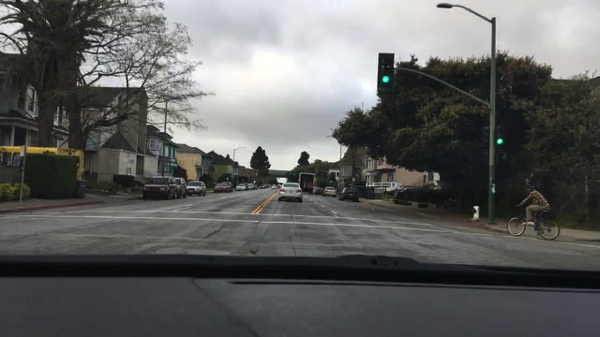bike: (506, 204, 560, 241)
bus: (1, 145, 83, 193)
car: (142, 176, 178, 200), (393, 187, 435, 203), (277, 183, 304, 202), (367, 181, 396, 194), (185, 180, 207, 197), (174, 178, 189, 199), (338, 187, 359, 201), (213, 182, 229, 193), (322, 187, 337, 198), (222, 181, 233, 192), (236, 183, 246, 192), (316, 187, 323, 195), (247, 184, 253, 190), (271, 184, 277, 190), (241, 183, 248, 188), (260, 184, 266, 189), (253, 185, 258, 190), (314, 187, 317, 193), (277, 184, 281, 187), (266, 184, 269, 188), (260, 184, 265, 185)
rider: (513, 185, 549, 235)
traffic light: (376, 52, 396, 87), (496, 126, 504, 147), (482, 126, 490, 146), (498, 151, 508, 164)
traffic sign: (20, 145, 25, 157)
truck: (298, 171, 315, 195)
